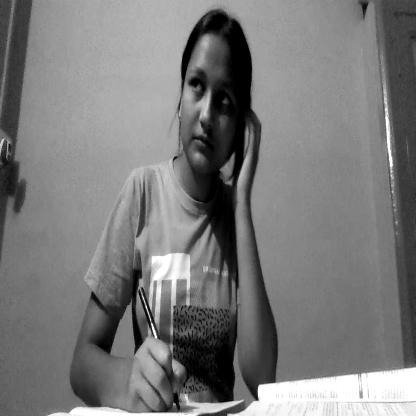Normal: (176, 6, 249, 190)
